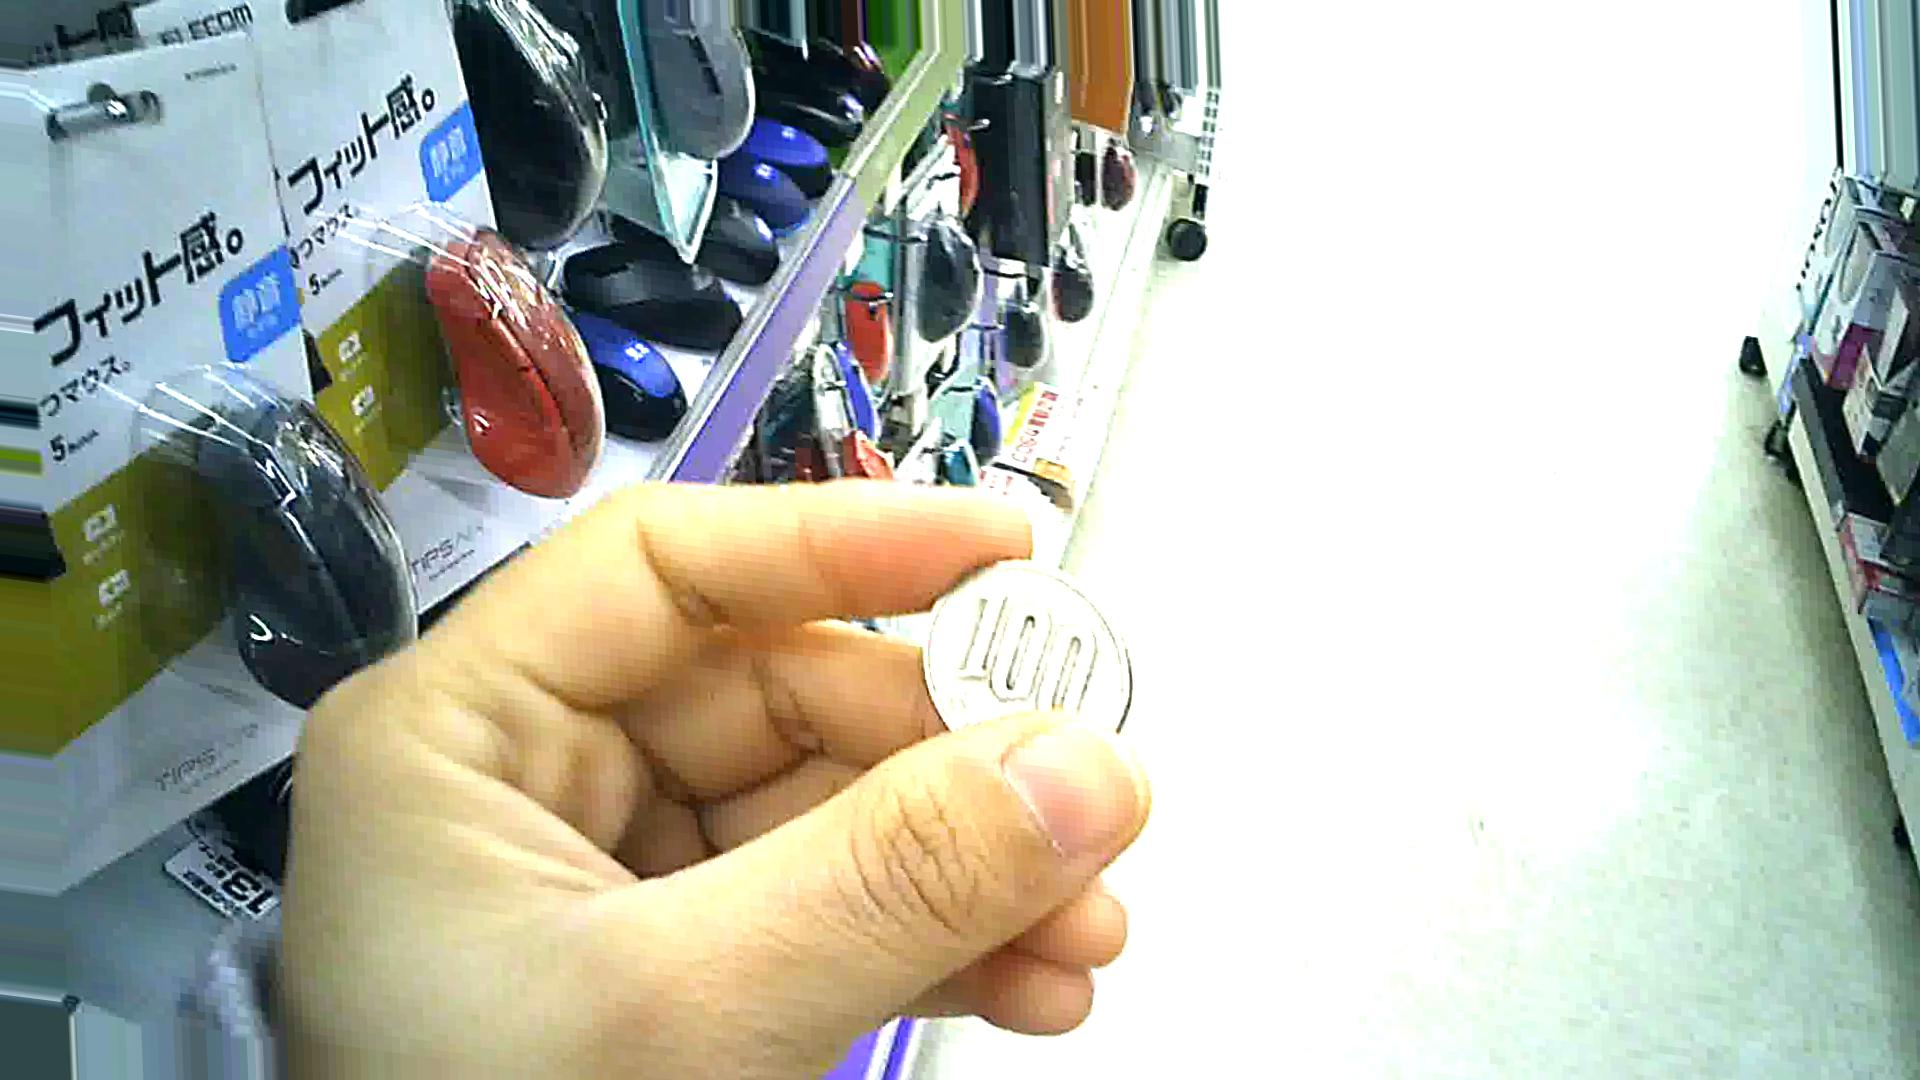100 Yen: (913, 556, 1147, 752)
